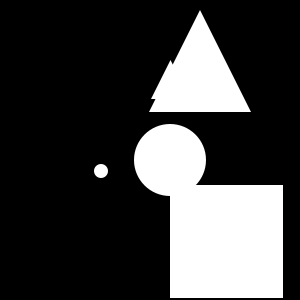circle: (170, 185, 283, 298)
rectangle: (134, 124, 206, 196), (94, 164, 108, 178)
triangle: (149, 10, 251, 112), (151, 60, 190, 99)
